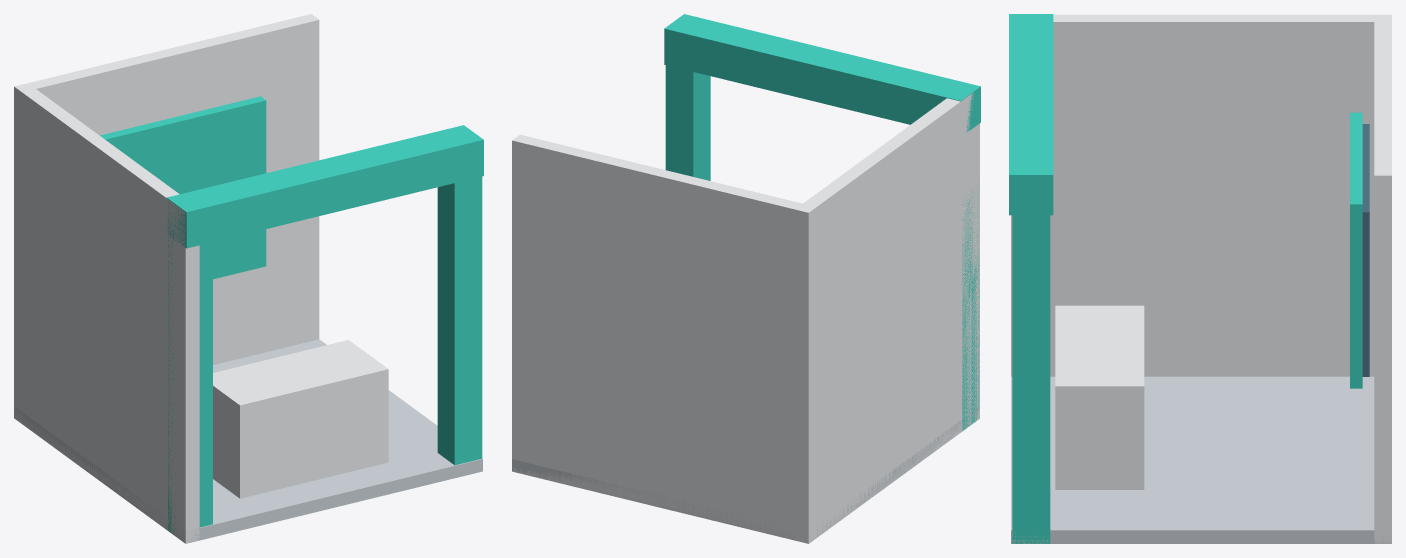
The picture shows the model from 3 angles, left to right: view 1: azimuth 30°, elevation 25°; view 2: azimuth 150°, elevation 25°; view 3: azimuth 270°, elevation 25°; orthographic projection. The views are drawn at different scales.
Visible parts, largest first — view 1: Exhibition Booth Concept; view 2: Exhibition Booth Concept; view 3: Exhibition Booth Concept.
Part boxes in pixels (bbox=[...]): Exhibition Booth Concept: bbox=[14, 14, 483, 543]; Exhibition Booth Concept: bbox=[512, 14, 980, 543]; Exhibition Booth Concept: bbox=[1009, 14, 1391, 543].
Size of the model in its own units: 3 by 3.2 by 3.01.
